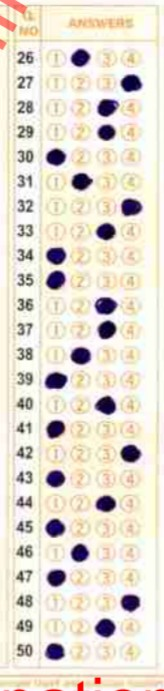filled circles: (95, 618, 115, 637), (95, 396, 115, 414), (46, 247, 66, 265), (121, 198, 142, 215), (121, 444, 140, 462), (46, 469, 65, 487), (72, 173, 92, 190), (121, 74, 141, 91), (98, 99, 118, 116), (95, 297, 116, 313), (45, 372, 66, 388), (46, 519, 64, 537), (46, 420, 64, 438), (71, 347, 90, 364), (96, 223, 115, 240), (46, 148, 65, 165), (46, 271, 65, 288), (71, 49, 89, 66), (47, 569, 65, 586), (71, 543, 88, 561), (98, 320, 115, 338), (121, 594, 139, 611), (96, 495, 115, 511), (45, 643, 64, 659), (98, 124, 115, 140)
